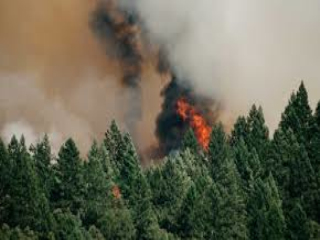fire: (183, 107, 216, 150)
smoke: (91, 7, 203, 149), (9, 60, 88, 151)
